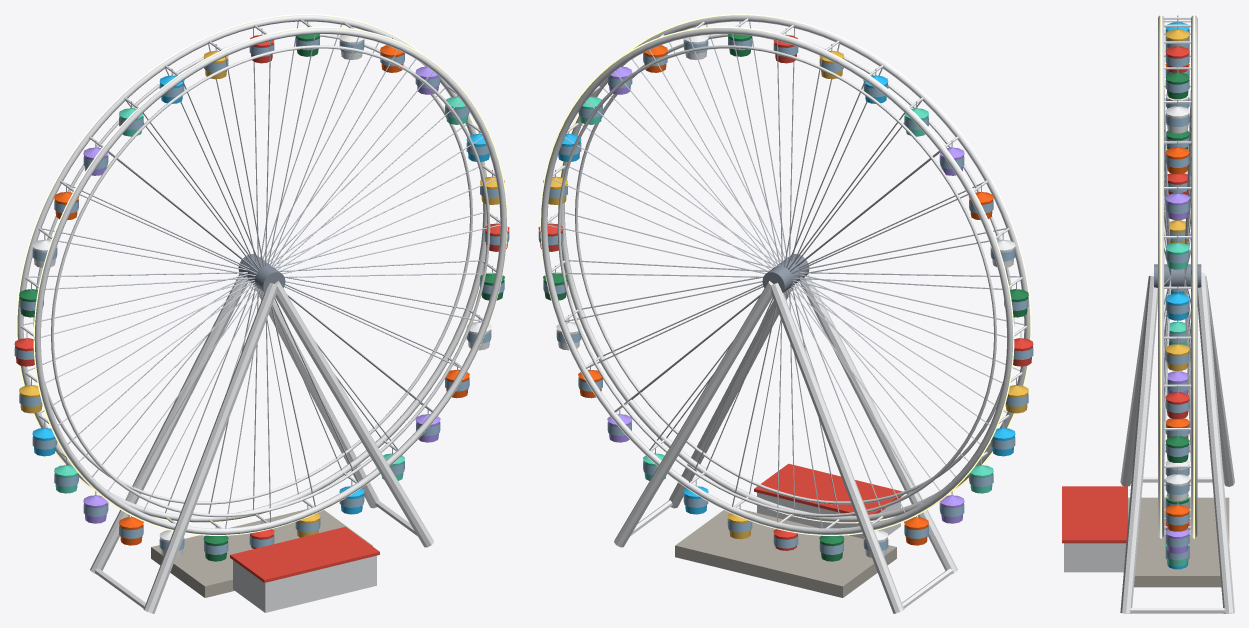
File: ferris_wheel.glb
The picture shows the model from 3 angles, left to right: view 1: azimuth 30°, elevation 25°; view 2: azimuth 150°, elevation 25°; view 3: azimuth 270°, elevation 25°; orthographic projection. The views are drawn at different scales.
Visible parts, largest first — view 1: ferris_wheel; view 2: ferris_wheel; view 3: ferris_wheel.
Boxes of the visible parts, x1,y1,x2,y2 form: ferris_wheel: [14, 14, 509, 613]; ferris_wheel: [538, 14, 1033, 613]; ferris_wheel: [1062, 14, 1234, 613].
Bounding box in the file's own units: 52.68 × 54.67 × 16.75.
